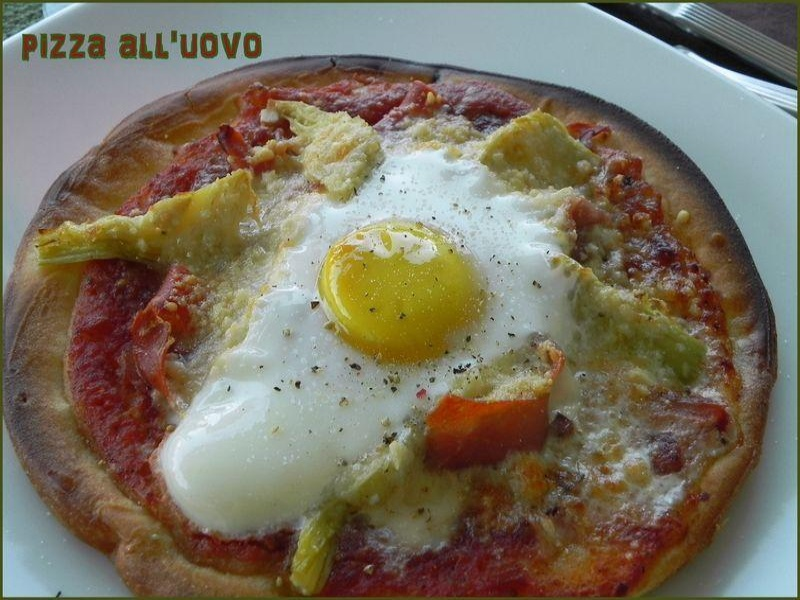oeuf: (302, 212, 511, 386)
